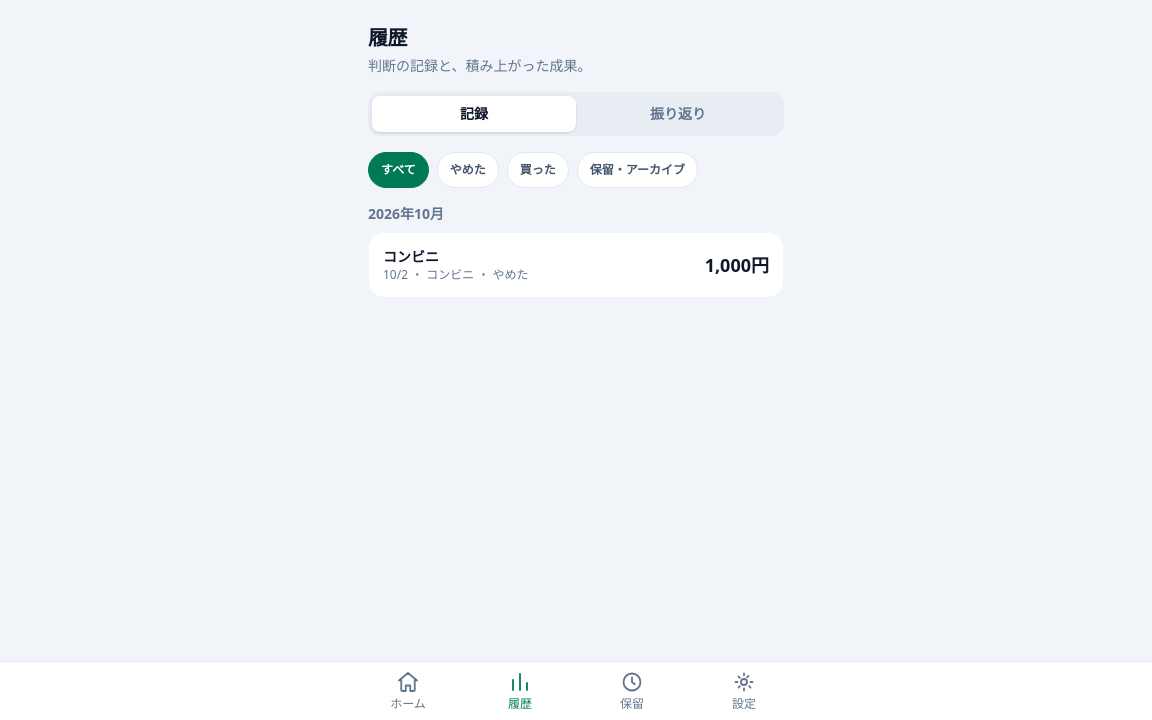
Test case: 振り返りタブ: 実績の一覧 › 解除済み（達成日つき）と未解除（残り表示）の両方が一覧できる
Click the tab "振り返り" at (678, 114), box 576,96 -> 780,132
(page scrolled)
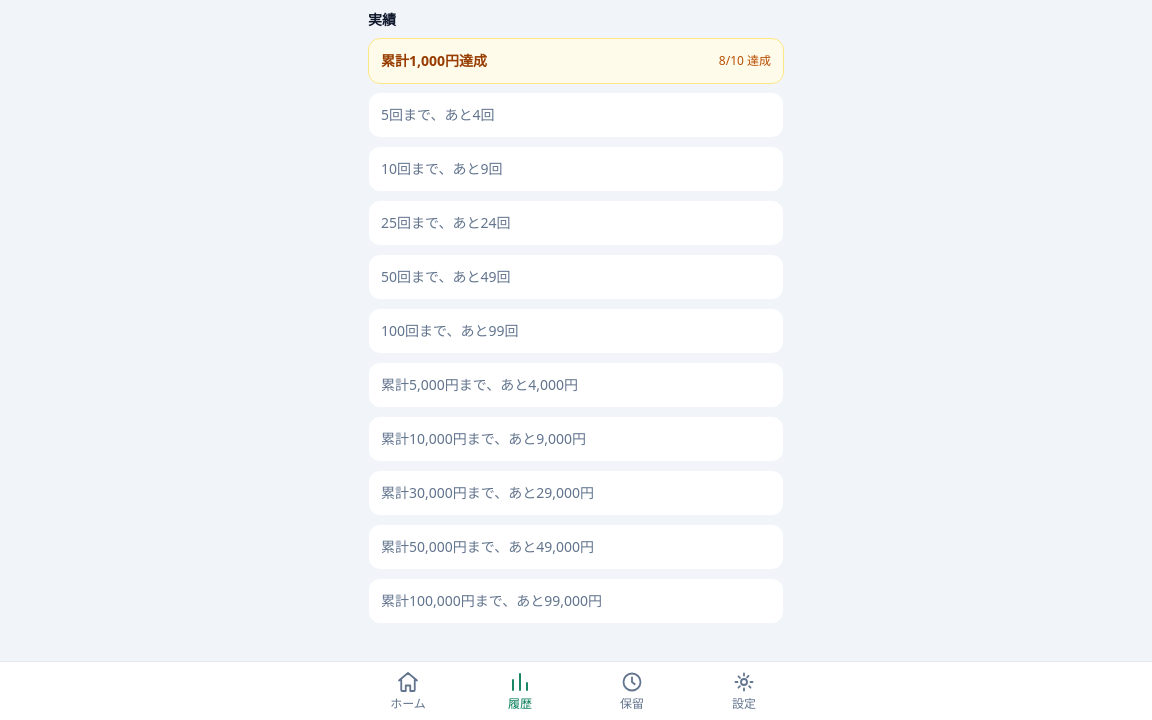
Expected: the text "累計1,000円達成" is shown, 381,51 -> 487,71
Expected: the text "8/10 達成" is shown, 719,53 -> 771,69
Expected: the text "累計5,000円まで、あと4,000円" is shown, 381,375 -> 578,395
